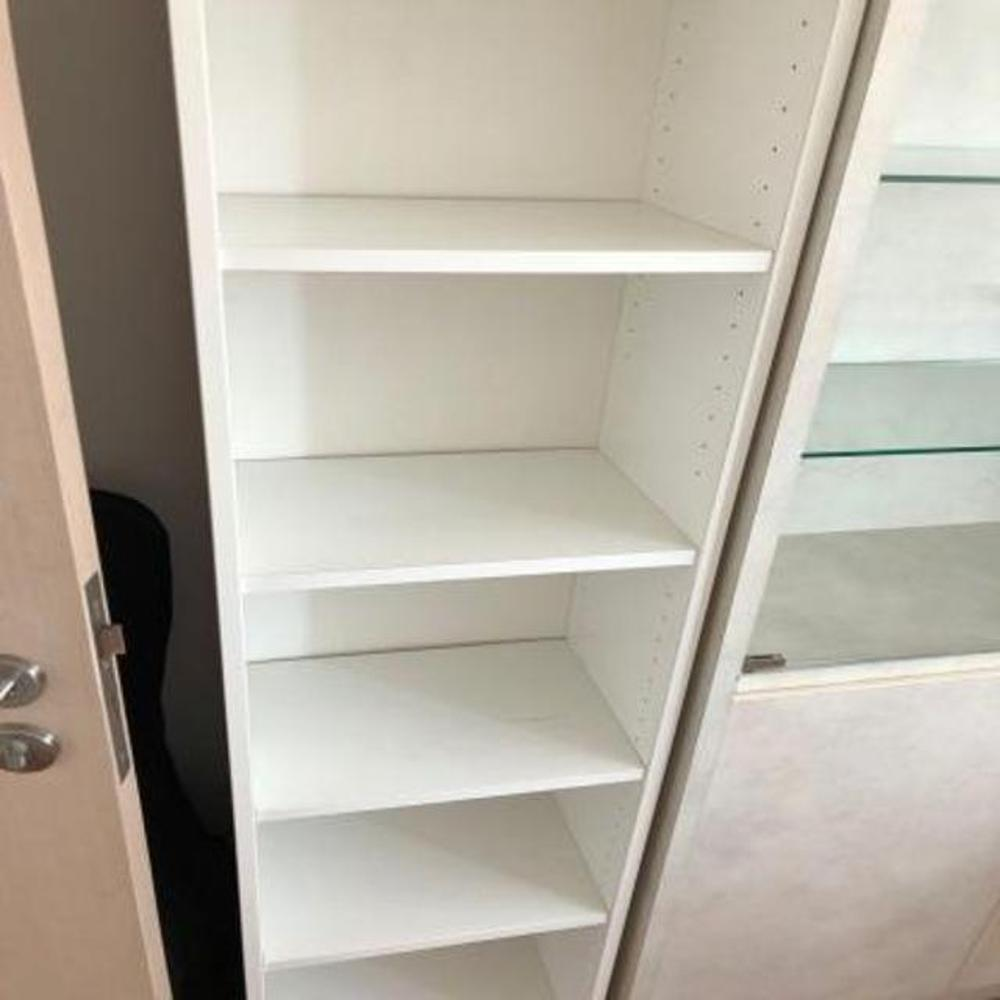lamp: (160, 1, 873, 999)
